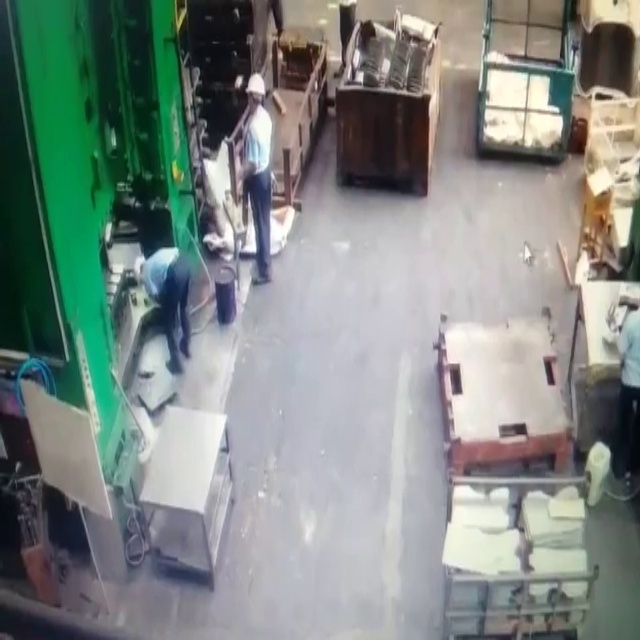safety_helmet: (140, 246, 179, 303), (245, 73, 266, 95)
